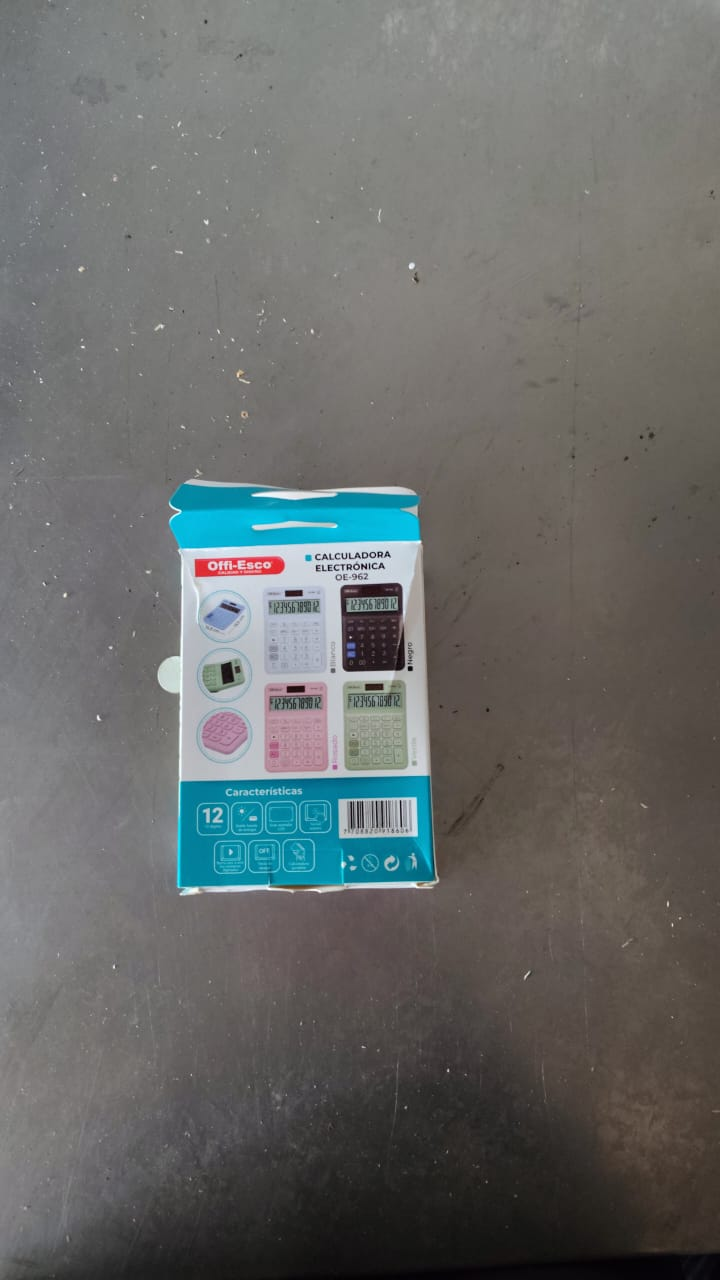Carton: (177, 486, 434, 891)
